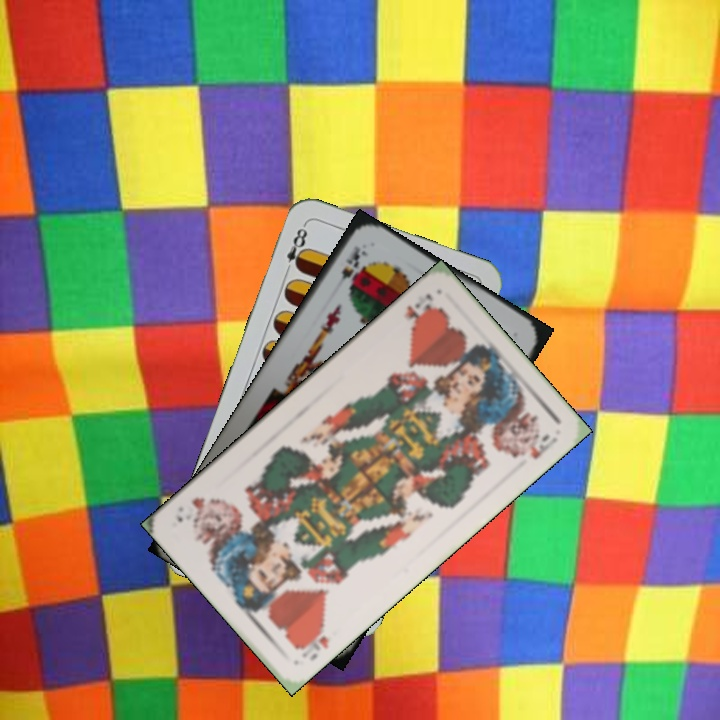E8: (280, 221, 311, 278)
HO: (292, 621, 332, 663), (400, 289, 437, 332)
SK: (329, 242, 371, 294)
